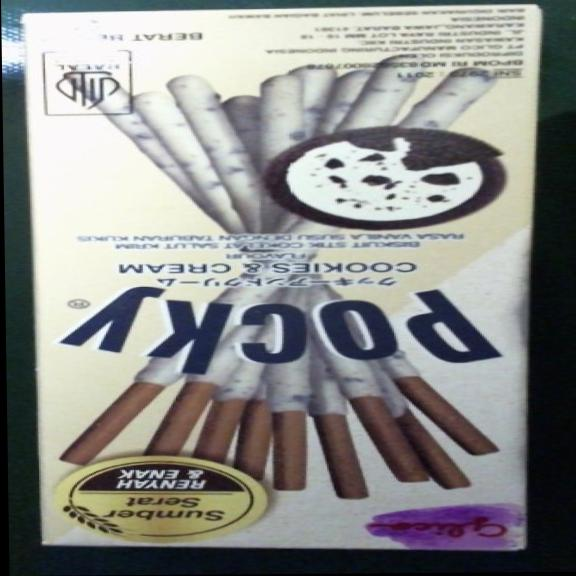Kertas: (10, 4, 551, 555)
